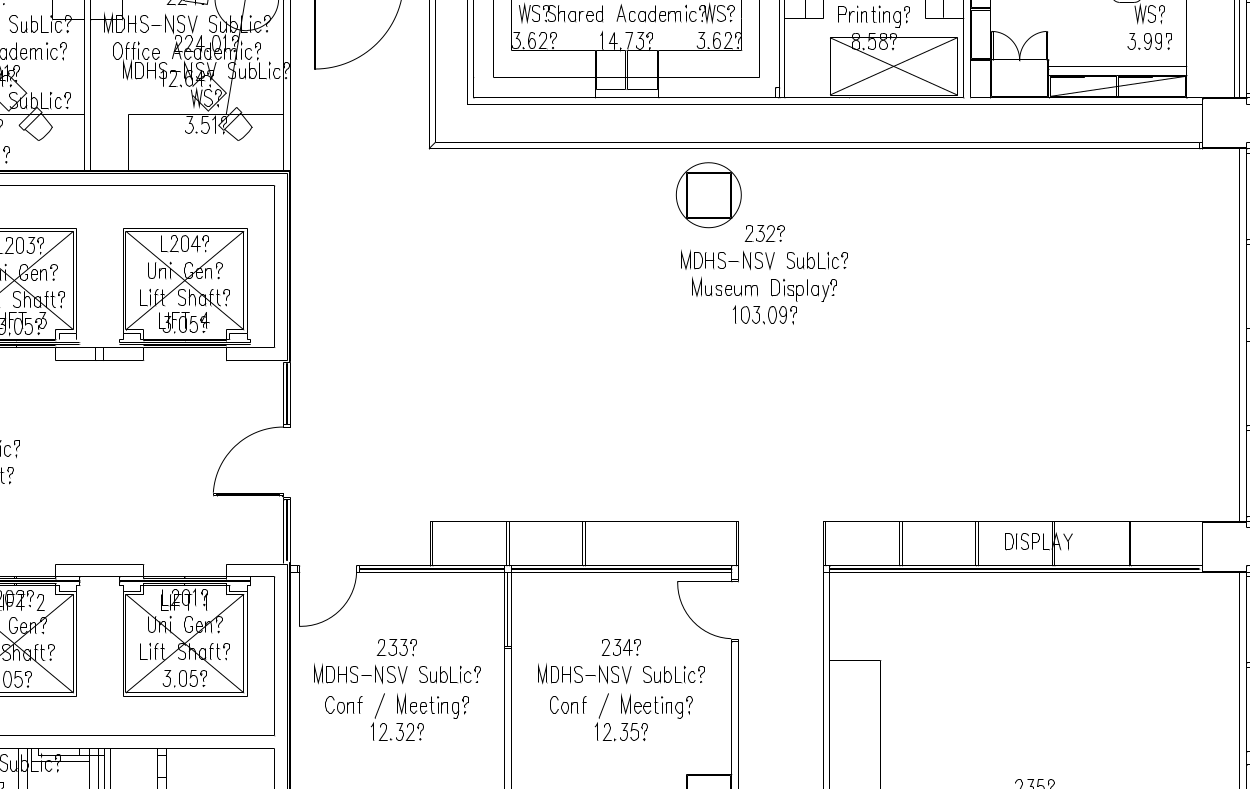door: (208, 417, 282, 504), (670, 576, 730, 646), (296, 570, 356, 640), (993, 25, 1051, 62)
